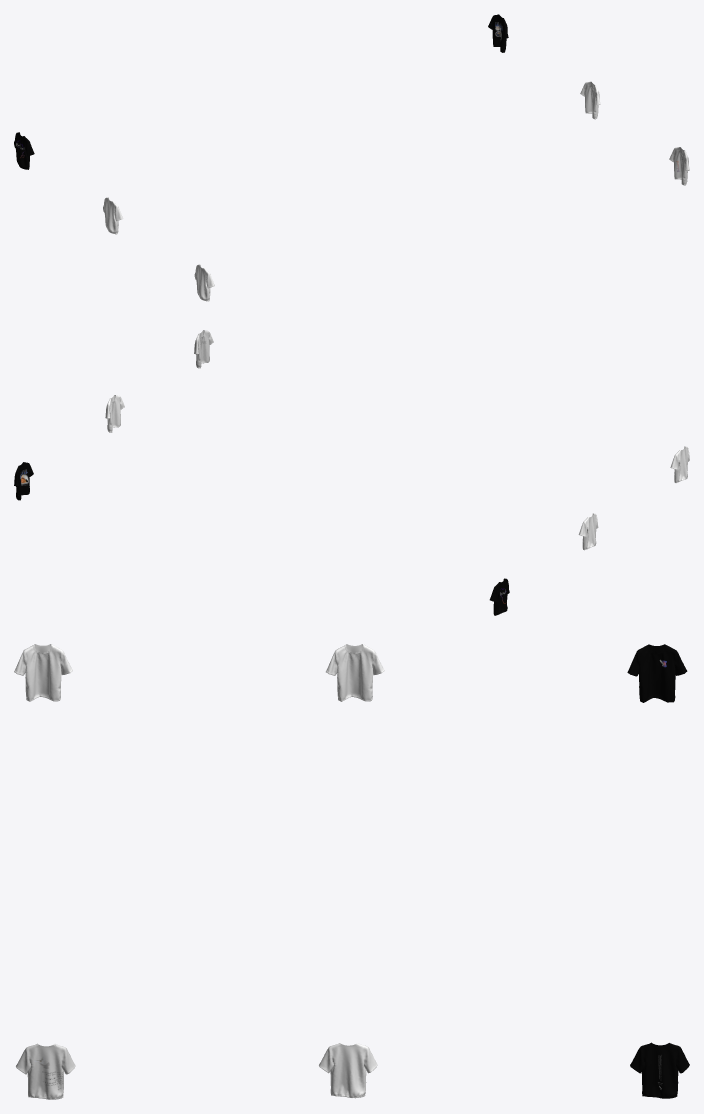
File: shirts.glb
The picture shows the model from 3 angles, top to bottom: view 1: azimuth 30°, elevation 25°; view 2: azimuth 150°, elevation 25°; view 3: azimuth 270°, elevation 25°; orthographic projection. The views are drawn at different scales.
Parts seen in each view (by area): view 1: SteelRodTee, newAtDawnTee, EclipseTee, Shirt2, Shirt5, Shirt4; view 2: newAtDawnTee, SteelRodTee, EclipseTee, Shirt2, Shirt4, Shirt5; view 3: EclipseTee, newAtDawnTee, SteelRodTee, Shirt5, Shirt4, Shirt2.
Part boxes in pixels (x1,y1,x2,y2): SteelRodTee: (488,14,508,52); newAtDawnTee: (669,147,689,185); EclipseTee: (14,132,34,169); Shirt2: (580,81,600,119); Shirt5: (194,264,214,301); Shirt4: (103,197,122,234); newAtDawnTee: (194,330,213,368); SteelRodTee: (14,462,33,500); EclipseTee: (489,578,509,615); Shirt2: (105,395,124,432); Shirt4: (578,513,598,550); Shirt5: (670,446,689,482); EclipseTee: (627,644,687,702); newAtDawnTee: (16,1043,75,1099); SteelRodTee: (630,1042,689,1098); Shirt5: (14,644,72,701); Shirt4: (326,644,384,701); Shirt2: (319,1043,377,1098).
Size of the model in its own units: 98.42 by 6.39 by 69.54.
Materials: 4 (3 with a texture image).
